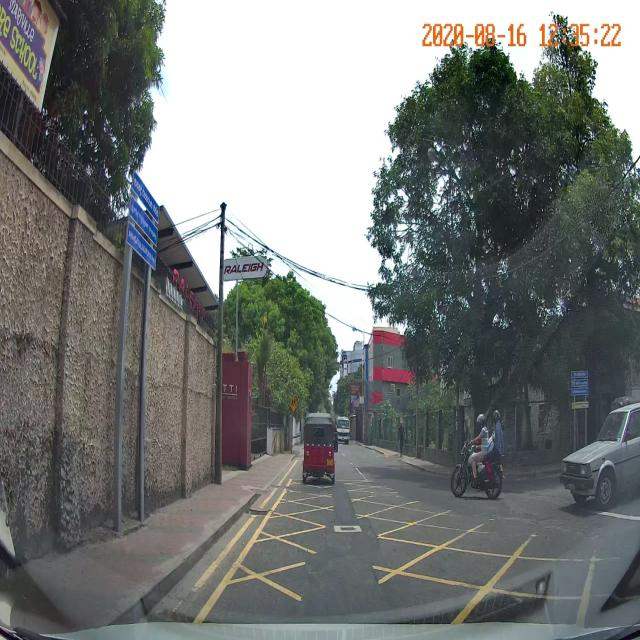Jeltaya razmetka: (192, 476, 624, 623)
